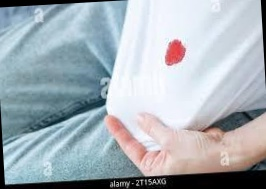blood: (162, 37, 186, 67)
